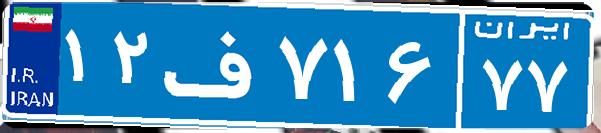1: (330, 28, 385, 110), (57, 26, 110, 107)
2: (110, 28, 158, 105)
6: (385, 28, 445, 110)
7: (273, 28, 330, 110), (475, 38, 525, 113), (525, 38, 570, 115)
ف: (158, 15, 273, 115)
